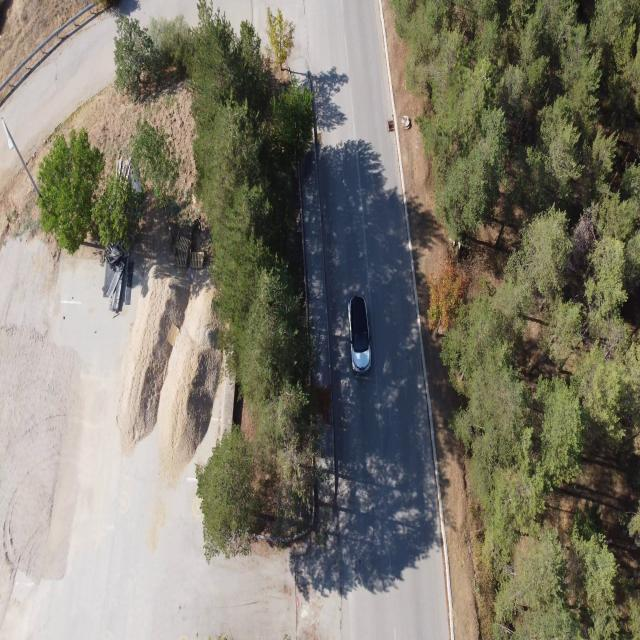vehicle: (348, 295, 372, 372)
